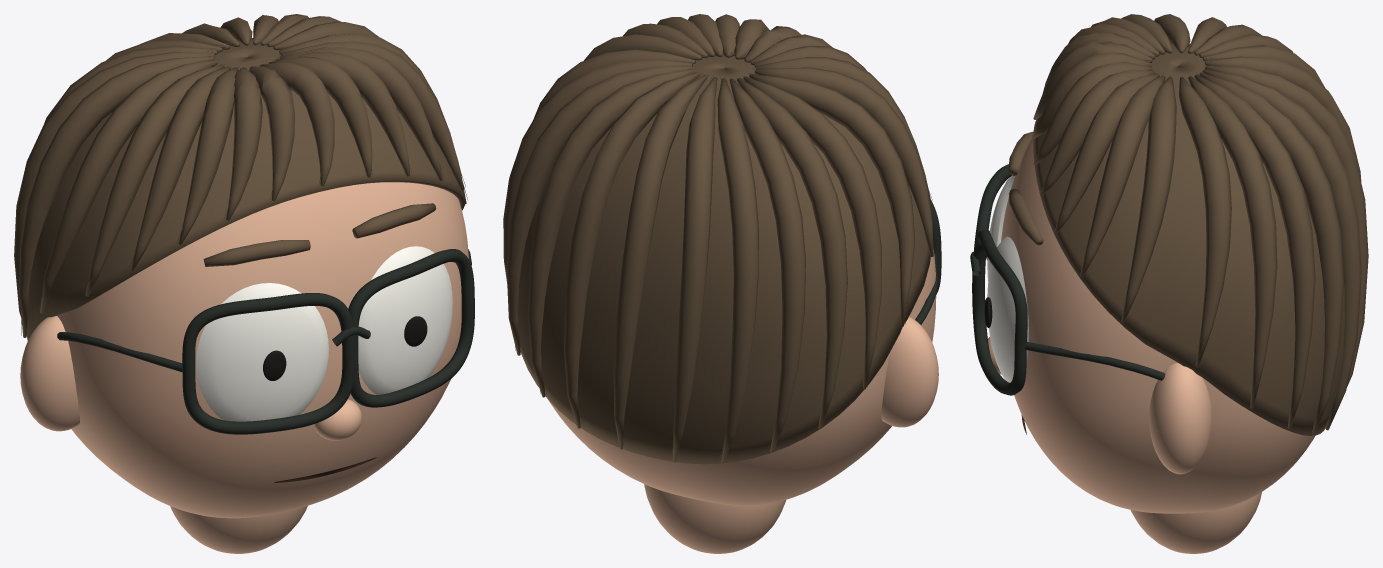
File: clive.glb
3 views of the same model, side by side, from view 1: azimuth 30°, elevation 25°; view 2: azimuth 150°, elevation 25°; view 3: azimuth 270°, elevation 25° (orthographic). The views are drawn at different scales.
Parts seen in each view (by area): view 1: Face, Hair_detail_clive_hair, Hair_cap, Hair_detail_clive_hair_light, Eye_white_L, Eye_white_R, Glasses_rim, Glasses_rim.001, Ear_L, Neck, Eyebrow_L, Eyebrow_R (+4 smaller); view 2: Hair_detail_clive_hair, Hair_cap, Hair_detail_clive_hair_light, Face, Neck, Ear_L; view 3: Hair_detail_clive_hair, Hair_cap, Face, Hair_detail_clive_hair_light, Ear_R, Glasses_rim.001, Neck, Eye_white_R, Glasses_temple.001, Glasses_rim, Eyebrow_R, Eye_white_L (+1 smaller).
Boxes of the visible parts, x1,y1,x2,y2 form: Face: (57,182,468,518); Hair_detail_clive_hair: (14,15,466,335); Hair_cap: (26,38,465,340); Hair_detail_clive_hair_light: (19,14,464,337); Eye_white_L: (196,283,328,421); Eye_white_R: (358,246,452,394); Glasses_rim: (182,293,353,434); Glasses_rim.001: (348,249,474,407); Ear_L: (20,316,79,431); Neck: (170,506,307,553); Eyebrow_L: (203,240,310,266); Eyebrow_R: (352,203,436,238); Hair_detail_clive_hair: (503,14,933,463); Hair_cap: (517,55,930,464); Hair_detail_clive_hair_light: (506,19,881,462); Face: (548,249,936,505); Neck: (644,484,786,553); Ear_L: (881,316,938,427); Hair_detail_clive_hair: (1033,14,1368,434); Hair_cap: (1033,43,1344,435); Face: (1001,138,1314,513); Hair_detail_clive_hair_light: (1032,17,1361,428); Ear_R: (1149,363,1211,474); Glasses_rim.001: (972,229,1027,395); Neck: (1130,492,1261,553); Eye_white_R: (987,236,1028,382); Glasses_temple.001: (1025,342,1165,380); Glasses_rim: (973,164,1011,303); Eyebrow_R: (1009,188,1043,245); Eye_white_L: (987,175,1014,281).
Bounding box in the file's own units: 1.15 × 1.27 × 0.9208.
